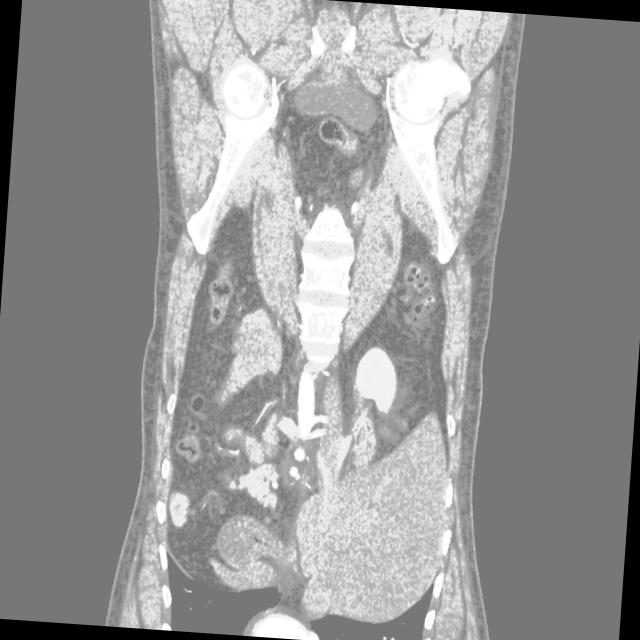NORMAL: (43, 55, 608, 640)
